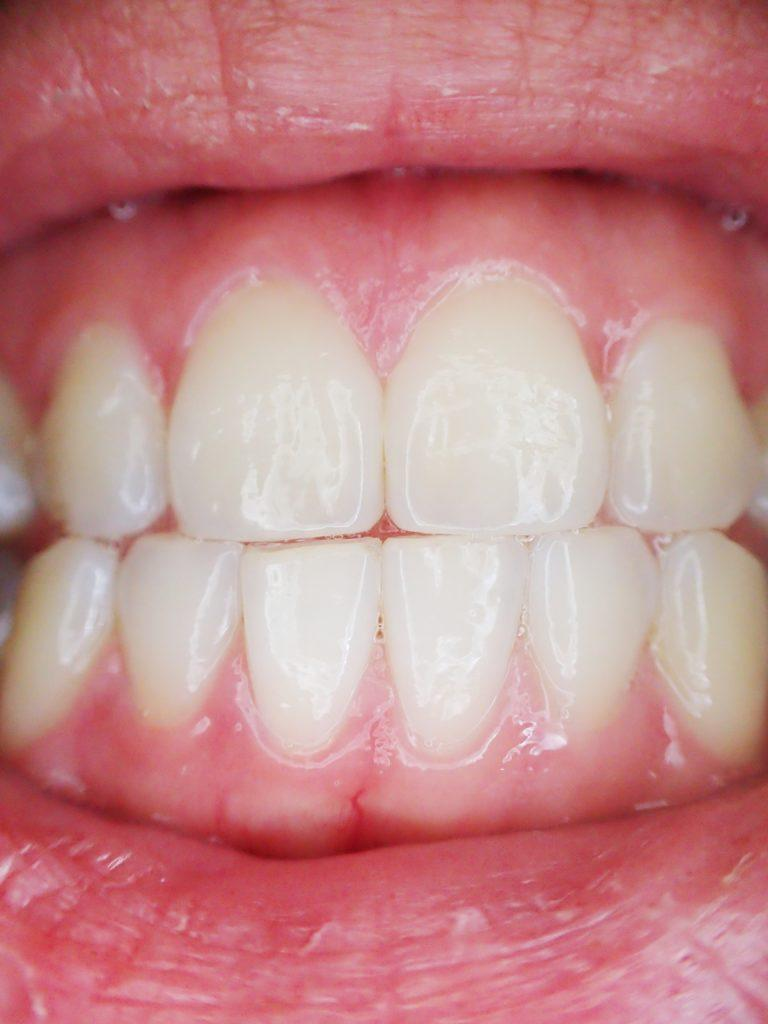cavity: (37, 294, 175, 545), (651, 531, 768, 794), (0, 532, 127, 752)
normal: (373, 230, 602, 545), (151, 250, 383, 548), (377, 515, 540, 776), (247, 519, 401, 776), (604, 307, 764, 544), (99, 532, 259, 744), (526, 518, 666, 750)
